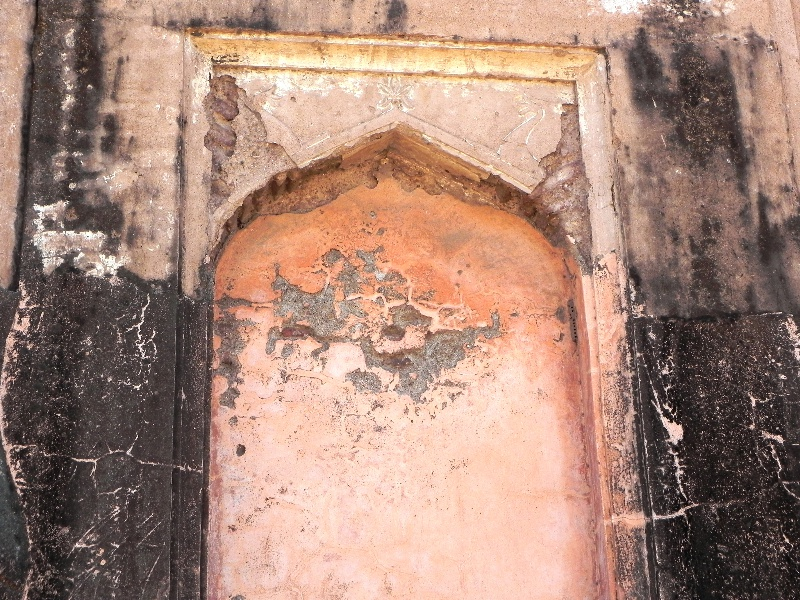Spalling: (517, 91, 595, 275), (201, 62, 238, 202)
